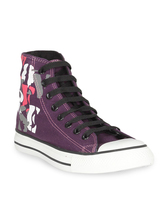shoes: (14, 51, 156, 173)
